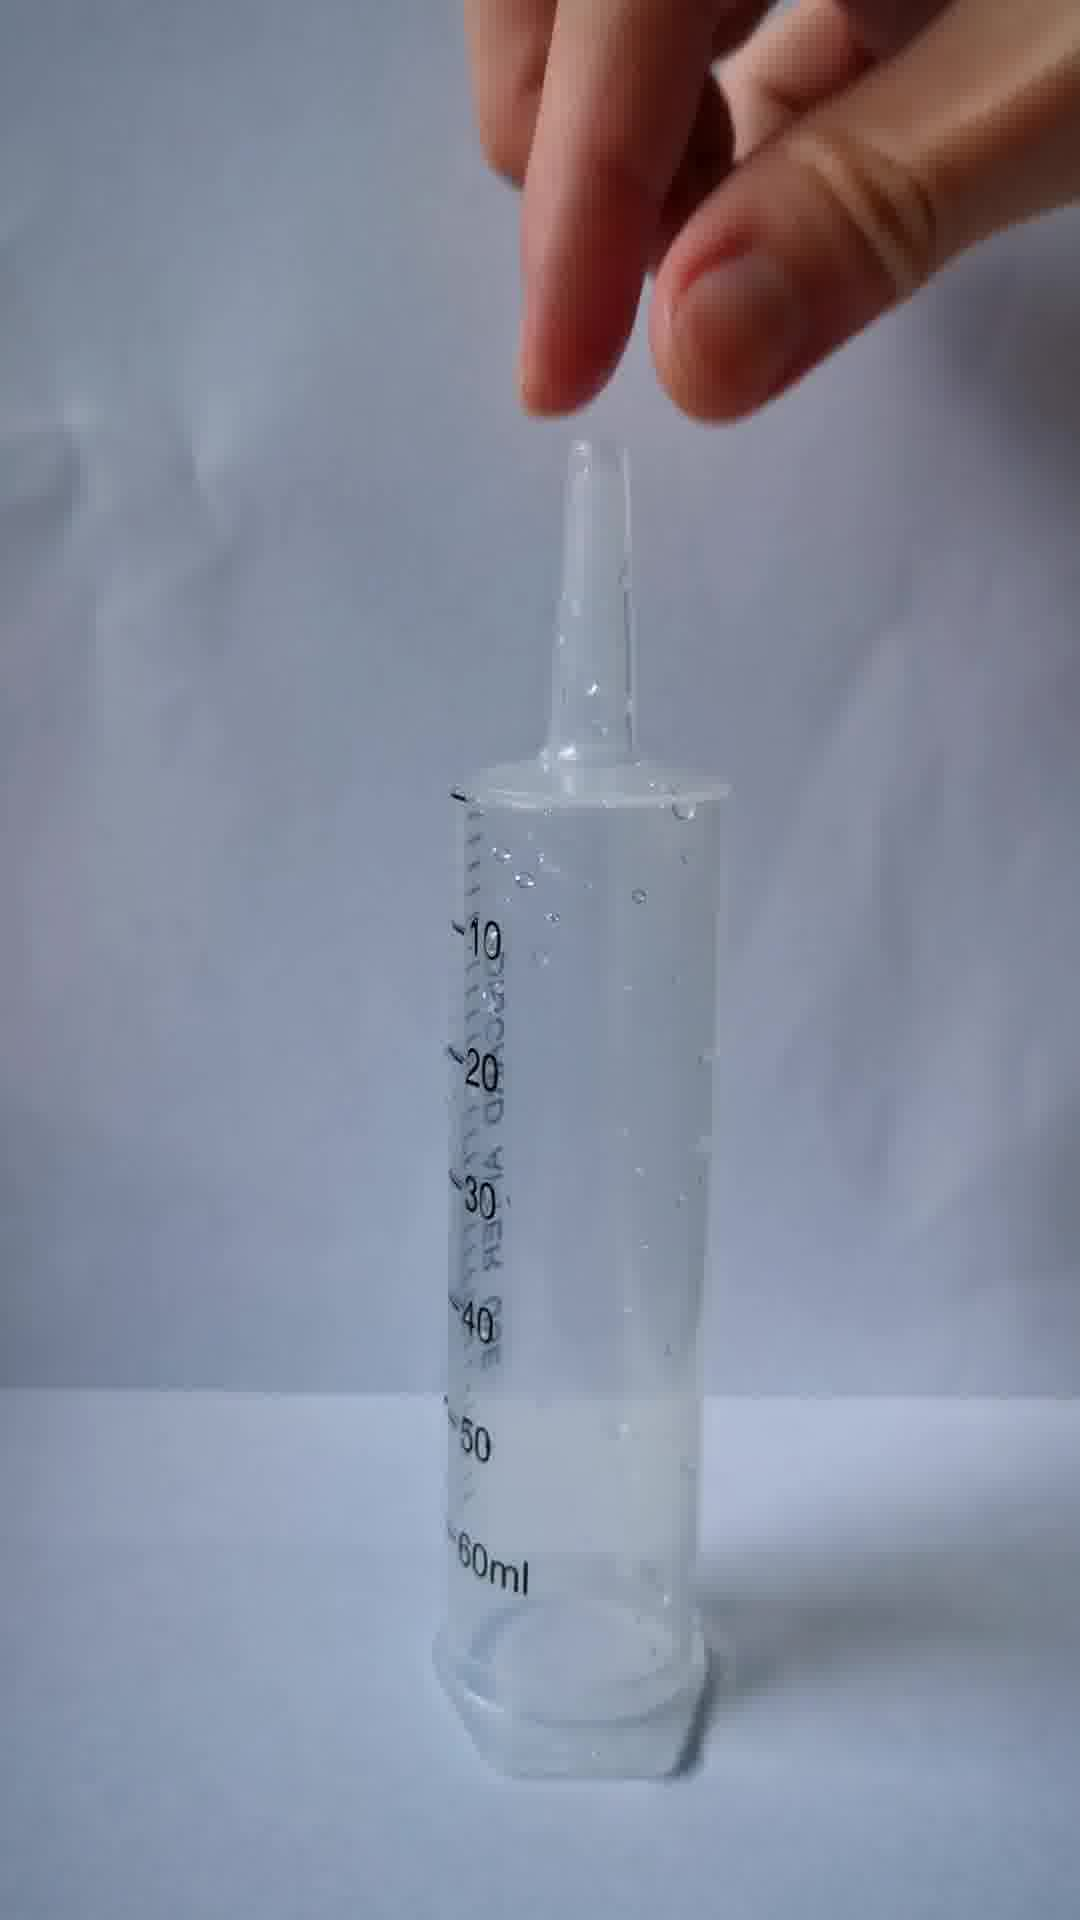syringe: (429, 431, 742, 1788)
